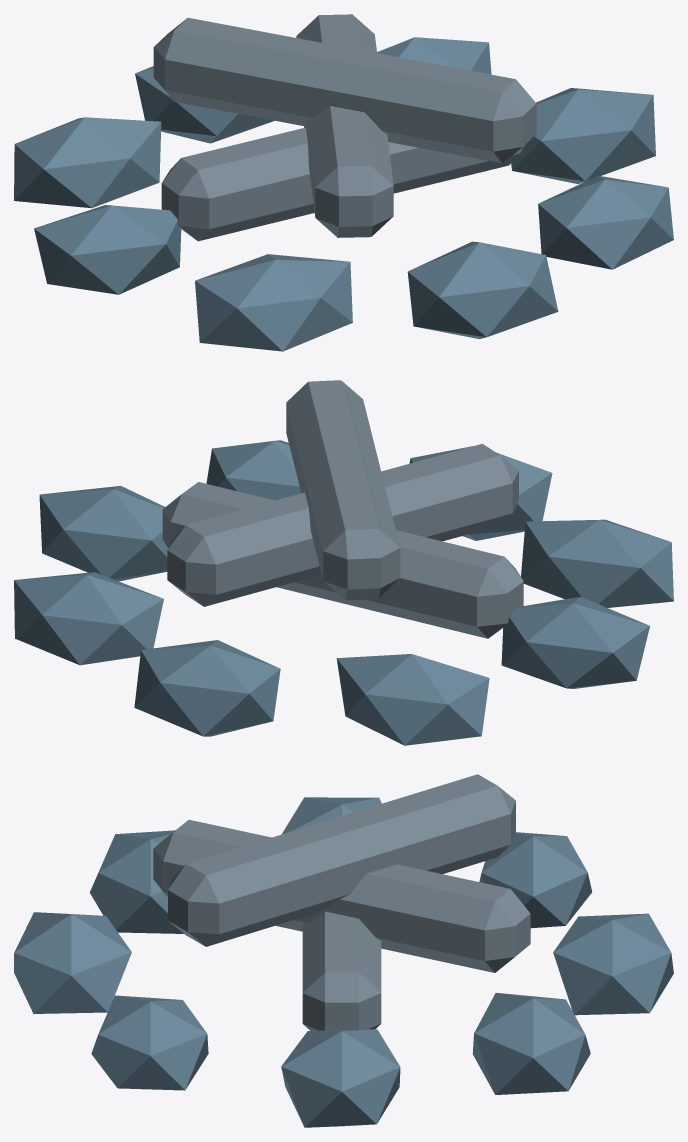
File: enfeite_fogueira.glb
3 views of the same model, one above another, from view 1: azimuth 30°, elevation 25°; view 2: azimuth 150°, elevation 25°; view 3: azimuth 270°, elevation 25° (orthographic). The views are drawn at different scales.
Parts seen in each view (by area): view 1: neve_enfeite_fogueira; view 2: neve_enfeite_fogueira; view 3: neve_enfeite_fogueira.
Boxes of the visible parts, left/top/right/bottom form: neve_enfeite_fogueira: left=14, top=14, right=673, bottom=351; neve_enfeite_fogueira: left=14, top=380, right=673, bottom=745; neve_enfeite_fogueira: left=14, top=774, right=673, bottom=1127.
Size of the model in its own units: 0.624 by 0.1841 by 0.5853.
